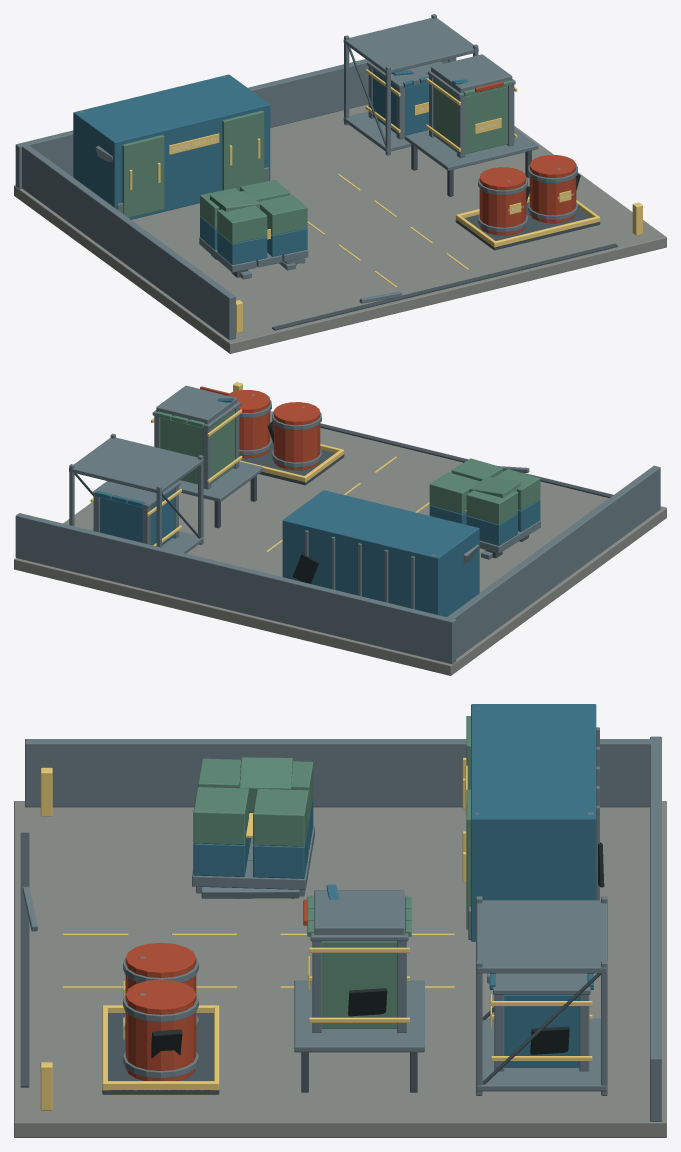
The model's file is warehouse_scene_d1.glb.
3 views of the same model, one above another, from view 1: azimuth 30°, elevation 25°; view 2: azimuth 150°, elevation 25°; view 3: azimuth 270°, elevation 25° (orthographic). The views are drawn at different scales.
Visible parts, largest first — view 1: Loading bay slab.001, Container body.001, Left cutaway wall.001, Rear cutaway wall.001, Full depth shelf deck.003, Crate shell.003, Container door.003, Container door.002, Barrel body.002, Barrel body.003, Packing bench top.001, Crate shell.002 (+16 smaller); view 2: Loading bay slab.001, Rear cutaway wall.001, Container body.001, Left cutaway wall.001, Full depth shelf deck.003, Crate shell.003, Barrel body.002, Crate shell.002, Reinforced lid.001, Barrel body.003, Stacked crate.015, Packing bench top.001 (+14 smaller); view 3: Loading bay slab.001, Left cutaway wall.001, Container body.001, Full depth shelf deck.003, Barrel body.003, Crate shell.003, Packing bench top.001, Rear cutaway wall.001, Full depth shelf deck.002, Reinforced lid.001, Crate shell.002, Stacked crate.015 (+29 smaller).
Boxes of the visible parts, x1,y1,x2,y2 form: Loading bay slab.001: (14, 104, 666, 353); Container body.001: (73, 74, 270, 219); Left cutaway wall.001: (21, 143, 235, 339); Rear cutaway wall.001: (15, 57, 456, 189); Full depth shelf deck.003: (343, 18, 478, 74); Crate shell.003: (433, 78, 507, 154); Container door.003: (122, 135, 164, 217); Container door.002: (222, 110, 264, 190); Barrel body.002: (479, 167, 526, 235); Barrel body.003: (529, 155, 576, 223); Packing bench top.001: (405, 128, 538, 170); Crate shell.002: (372, 69, 428, 135); Loading bay slab.001: (14, 411, 666, 675); Rear cutaway wall.001: (15, 513, 456, 664); Container body.001: (282, 490, 479, 616); Left cutaway wall.001: (446, 465, 660, 658); Full depth shelf deck.003: (69, 437, 203, 493); Crate shell.003: (160, 410, 234, 484); Barrel body.002: (273, 402, 320, 470); Crate shell.002: (100, 489, 174, 545); Reinforced lid.001: (156, 385, 237, 424); Barrel body.003: (229, 390, 270, 458); Stacked crate.015: (429, 472, 479, 513); Packing bench top.001: (178, 461, 263, 501); Loading bay slab.001: (14, 801, 666, 1137); Left cutaway wall.001: (25, 739, 654, 807); Container body.001: (471, 704, 596, 941); Full depth shelf deck.003: (476, 900, 606, 973); Barrel body.003: (125, 979, 196, 1080); Crate shell.003: (322, 941, 396, 1028); Packing bench top.001: (294, 980, 424, 1052); Rear cutaway wall.001: (650, 736, 661, 1121); Full depth shelf deck.002: (476, 1018, 606, 1091); Reinforced lid.001: (314, 890, 404, 934); Crate shell.002: (504, 994, 579, 1067); Stacked crate.015: (253, 788, 308, 846).
Size of the model in its own units: 14 by 3.53 by 12.
